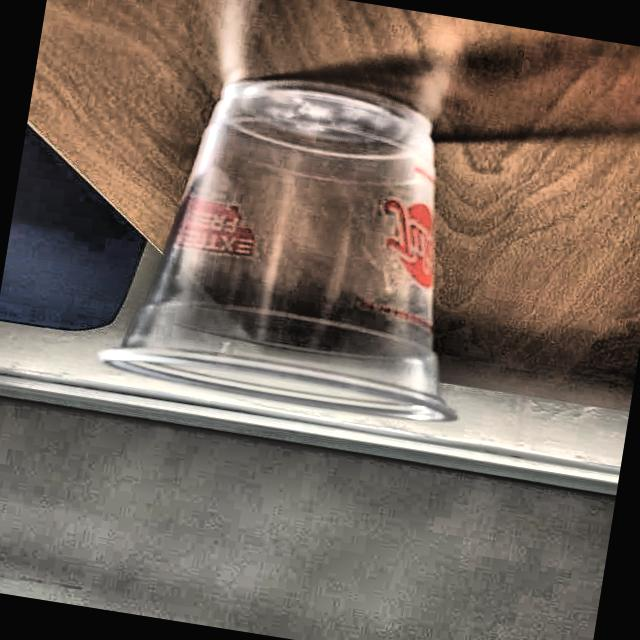plastic cup: (96, 54, 513, 435)
